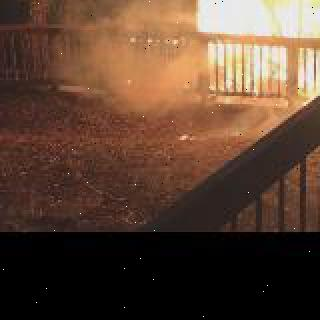fire: (158, 0, 320, 86)
